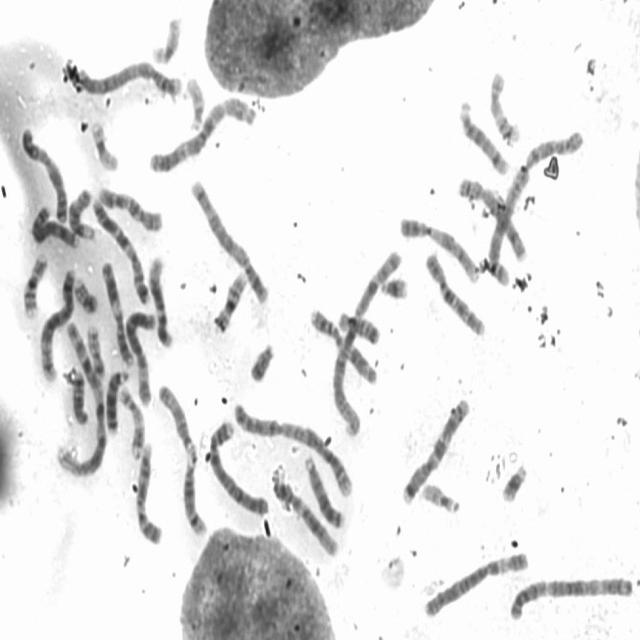A1: (328, 243, 404, 438), (52, 316, 109, 482)
A2: (482, 124, 587, 288), (230, 398, 357, 499)
A3: (507, 570, 638, 624), (146, 96, 226, 174)
B4: (204, 415, 270, 517), (68, 56, 184, 98)
B5: (187, 174, 271, 307), (38, 265, 76, 383)
C10: (422, 247, 487, 339), (95, 181, 166, 234)
C11: (307, 303, 380, 388), (98, 257, 135, 368)
C12: (272, 477, 341, 558), (146, 251, 175, 349)
C6: (422, 548, 530, 620), (121, 305, 158, 407)
C7: (398, 392, 472, 506), (91, 192, 153, 306)
C8: (455, 173, 529, 264), (28, 200, 82, 251)
C9: (396, 211, 481, 285), (134, 436, 164, 547)
D13: (302, 449, 346, 532), (102, 364, 131, 436)
D14: (456, 96, 510, 177), (178, 451, 208, 539)
D15: (155, 379, 200, 463), (66, 183, 98, 241)
E16: (210, 265, 248, 336), (20, 248, 50, 320)
E17: (486, 67, 522, 143), (118, 382, 148, 461)
E18: (336, 309, 380, 346), (68, 363, 90, 426)
F19: (87, 115, 121, 173), (148, 12, 184, 65)
F20: (84, 321, 106, 380), (71, 272, 99, 314)
G21: (497, 456, 529, 504), (376, 272, 410, 302)
G22: (418, 478, 462, 516), (184, 70, 207, 132)
X: (17, 123, 69, 226)
Y: (247, 338, 276, 384)
